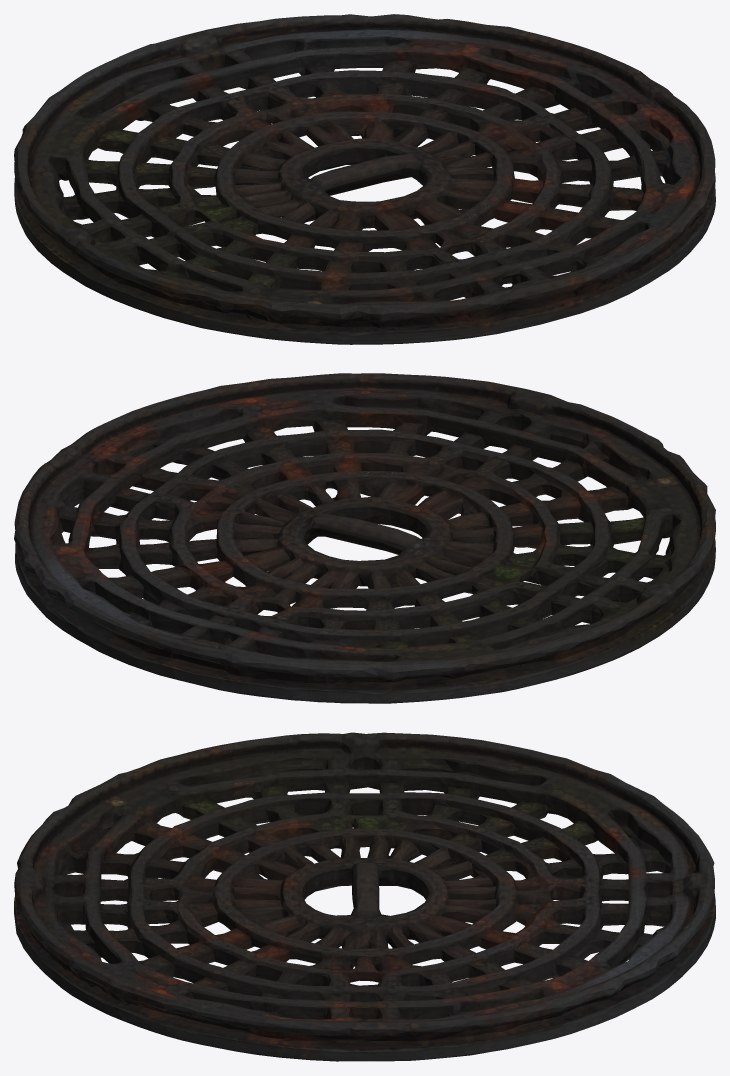
Rendered from sewer_wall_bar.glb.
3 renders of one model, top to bottom at view 1: azimuth 30°, elevation 25°; view 2: azimuth 150°, elevation 25°; view 3: azimuth 270°, elevation 25°, orthographic.
Visible parts, largest first — view 1: world; view 2: world; view 3: world.
Boxes of the visible parts, x1,y1,x2,y2 form: world: (14,14,715,344); world: (14,373,715,703); world: (14,732,715,1061).
Size of the model in its own units: 1 by 0.0598 by 0.9999.
1 material, 1 textured.
